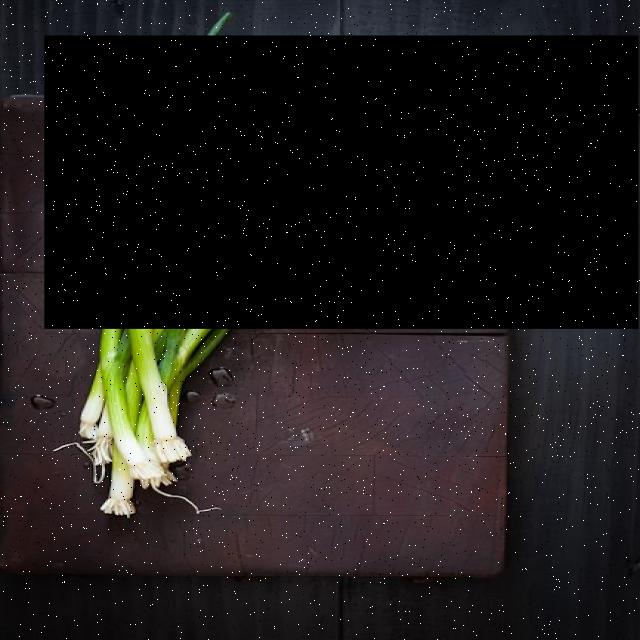Onion_Leaves: (44, 35, 640, 328)
